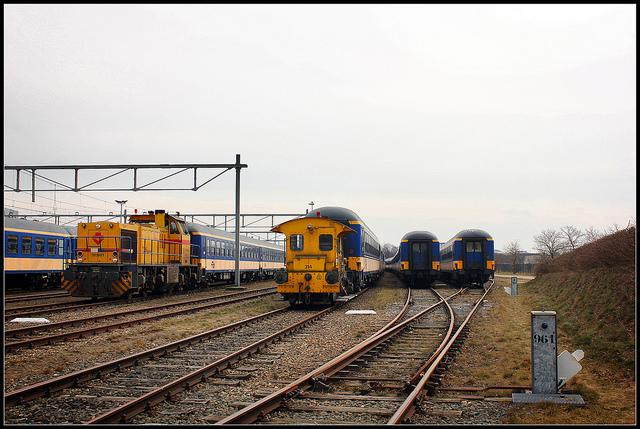Train: (64, 214, 285, 302), (274, 206, 388, 309), (5, 218, 79, 289), (439, 227, 499, 289), (383, 233, 440, 287)
